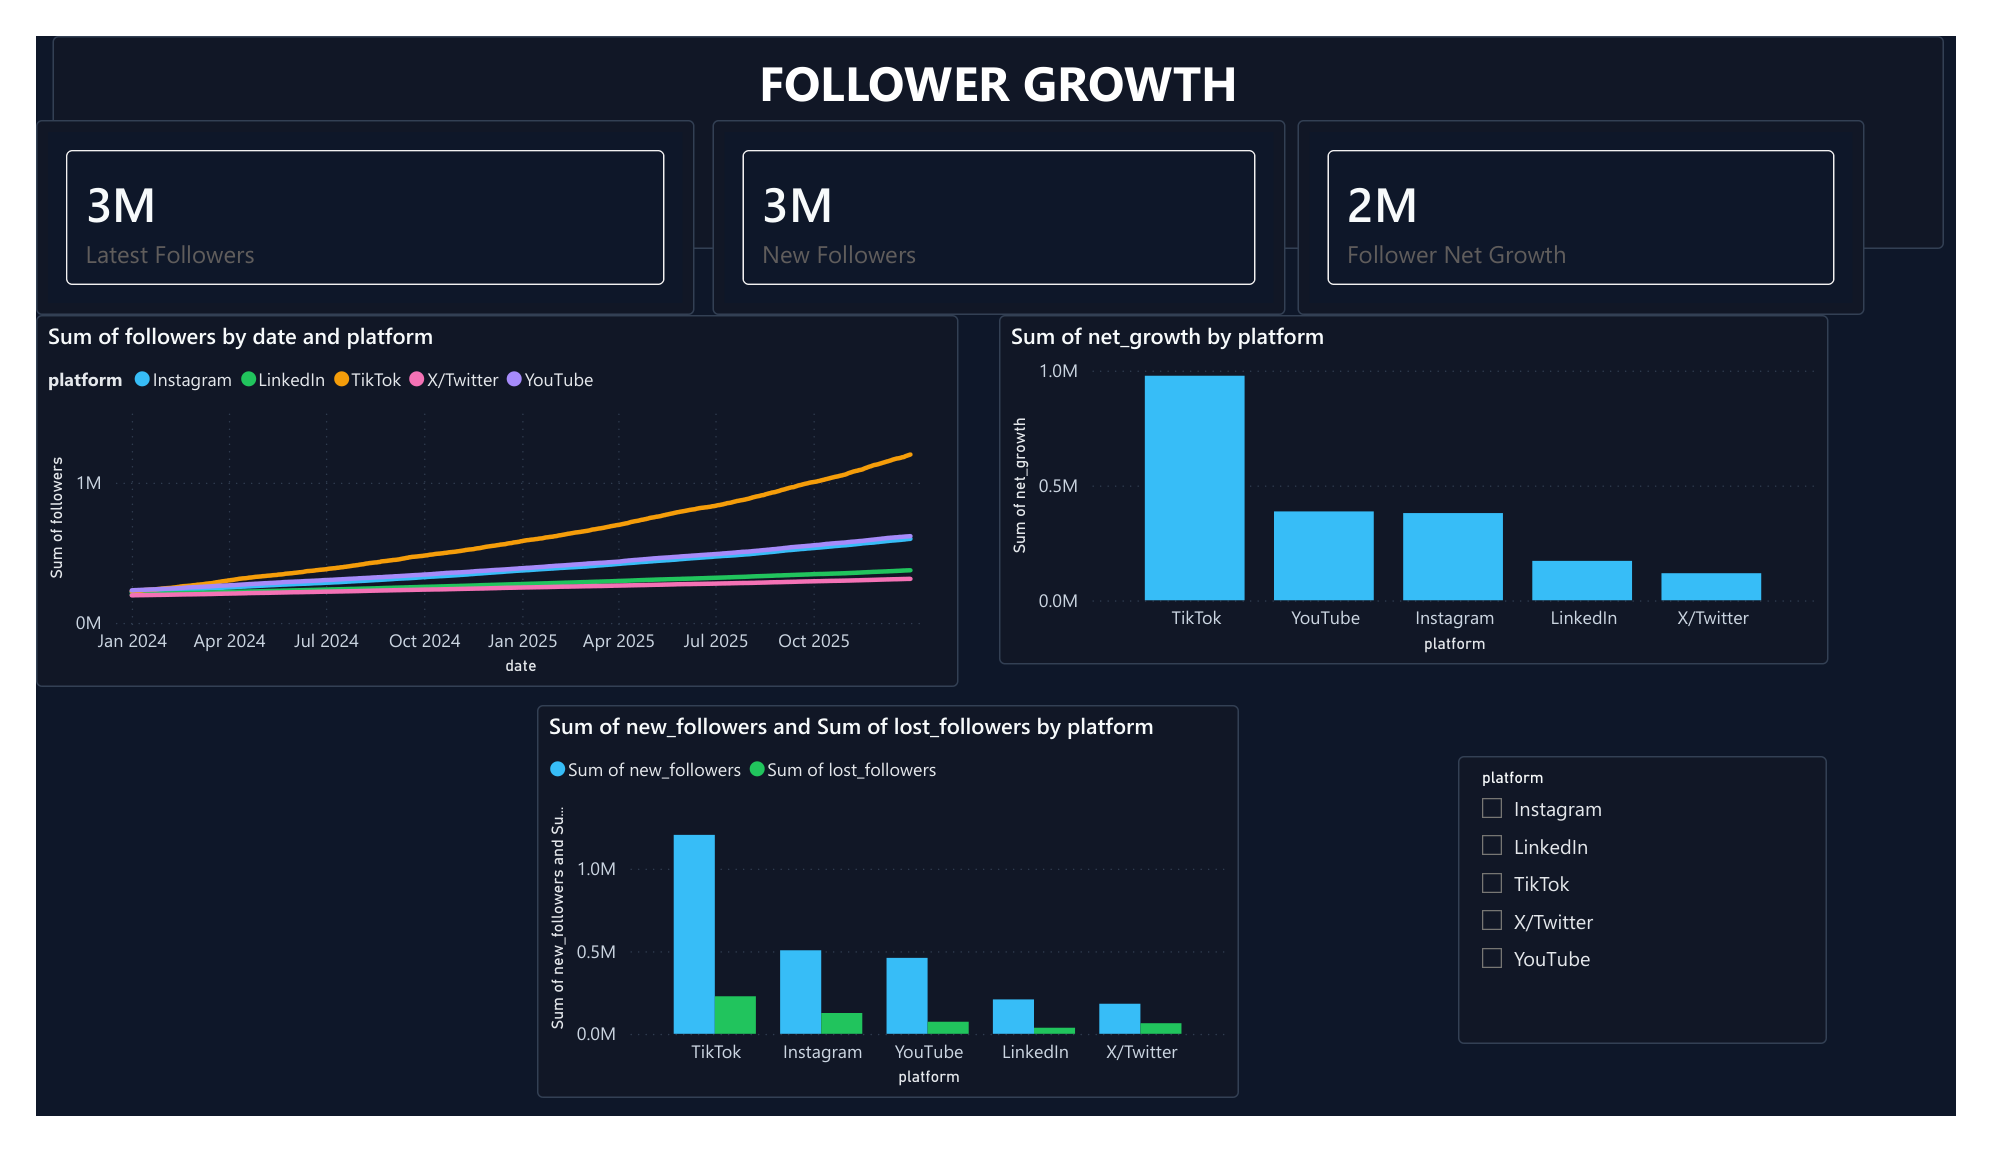

The page's visual inventory and layout, read from the dashboard file:
{"tool":"powerbi","page":{"name":"Follower Growth","canvas":[1280,720],"ordinal":3},"visuals":[{"type":"textbox","box":[10.6,0,1261.2,142.4],"z":0},{"type":"cardVisual","fields":{"Data":["ab_tests.Latest Followers"]},"box":[0,56.5,438.8,129.4],"z":1000},{"type":"cardVisual","fields":{"Data":["ab_tests.New Followers"]},"box":[450.6,56.5,382.4,129.4],"z":2000},{"type":"cardVisual","fields":{"Data":["ab_tests.Follower Net Growth"]},"box":[841.2,56.5,377.6,129.4],"z":3000},{"type":"slicer","fields":{"Values":["followers_daily.platform"]},"box":[941.2,443.5,245.9,191.8],"z":4000},{"type":"clusteredColumnChart","fields":{"Category":["followers_daily.platform"],"Y":["Sum(followers_daily.net_growth)"]},"box":[642.4,185.9,552.9,232.9],"z":5000},{"type":"clusteredColumnChart","fields":{"Category":["followers_daily.platform"],"Y":["Sum(followers_daily.new_followers)","Sum(followers_daily.lost_followers)"]},"box":[325.9,418.8,468.2,261.2],"z":6000},{"type":"lineChart","fields":{"Category":["followers_daily.date"],"Y":["Sum(followers_daily.followers)"],"Series":["followers_daily.platform"]},"box":[0,186,439,233],"z":7000}]}

Visuals, with their boxes in screenshot pixels (x1, y1, x2, y2), scaled from the page's 1280x720 canvas onto the 1992x1152 screenshot:
textbox: l=16, t=0, r=1979, b=228
cardVisual - ab_tests.Latest Followers: l=0, t=90, r=683, b=297
cardVisual - ab_tests.New Followers: l=701, t=90, r=1296, b=297
cardVisual - ab_tests.Follower Net Growth: l=1309, t=90, r=1897, b=297
slicer - followers_daily.platform: l=1465, t=710, r=1847, b=1016
clusteredColumnChart - followers_daily.platform x Sum(followers_daily.net_growth): l=1000, t=297, r=1860, b=670
clusteredColumnChart - followers_daily.platform x Sum(followers_daily.new_followers): l=507, t=670, r=1236, b=1088
lineChart - followers_daily.date x Sum(followers_daily.followers): l=0, t=298, r=683, b=670
